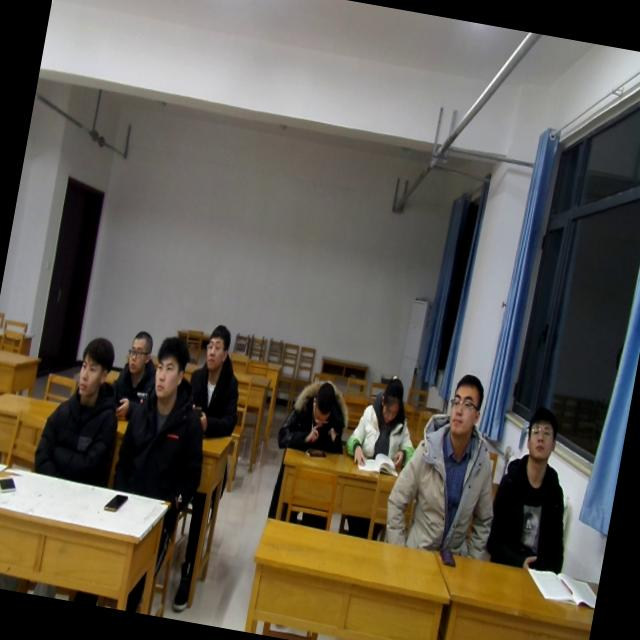down: (374, 365, 412, 428), (304, 374, 339, 430)
lookup: (146, 326, 195, 408), (440, 367, 488, 446), (516, 399, 566, 472), (72, 327, 118, 403), (121, 320, 155, 378), (200, 319, 233, 374)
sit: (380, 364, 514, 556), (111, 332, 223, 504), (484, 402, 590, 574), (28, 324, 132, 484), (180, 318, 254, 438), (346, 366, 426, 468), (276, 365, 355, 460), (109, 324, 164, 418)
